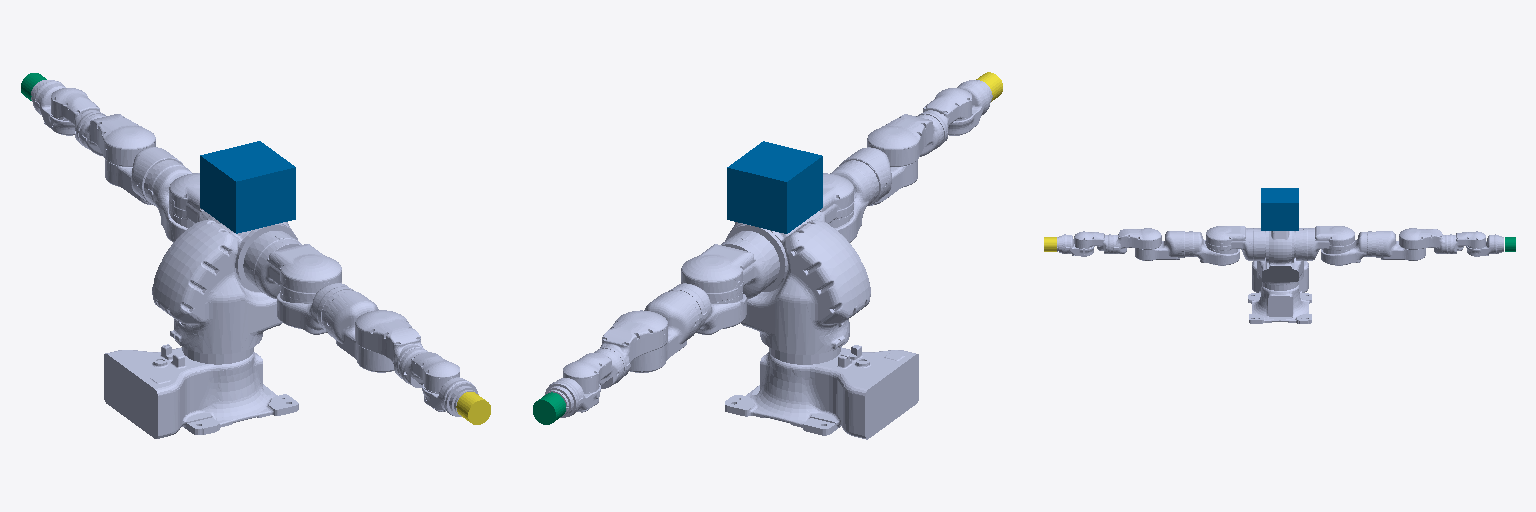
robot.urdf — sda20d_gripper_hole_kinect:
<?xml version="1.0" ?>
<!-- =================================================================================== -->
<!-- |    This document was autogenerated by xacro from sda20d_gripper_hole_kinect.xacro | -->
<!-- |    EDITING THIS FILE BY HAND IS NOT RECOMMENDED                                 | -->
<!-- =================================================================================== -->
<robot name="sda20d_gripper_hole_kinect" xmlns:xacro="http://ros.org/wiki/xacro">
  <!-- link list -->
  <link name="base_link">
    <inertial>
      <origin rpy="0 0 0" xyz="-0.11144 -4.9089E-05 0.10433"/>
      <mass value="28.727"/>
      <inertia ixx="0.3449" ixy="-0.00060471" ixz="-0.0072714" iyy="0.73969" iyz="5.6352E-05" izz="0.82224"/>
    </inertial>
    <visual>
      <origin rpy="0 0 0" xyz="0 0 0"/>
      <geometry>
        <mesh filename="package://motoman_sda20d_support/meshes/visual/base_link.STL"/>
      </geometry>
      <material name="">
        <color rgba="0.79216 0.81961 0.93333 1"/>
      </material>
    </visual>
    <collision>
      <origin rpy="0 0 0" xyz="0 0 0"/>
      <geometry>
        <mesh filename="package://motoman_sda20d_support/meshes/collision/base_link.STL"/>
      </geometry>
    </collision>
  </link>
  <link name="torso_link_b1">
    <inertial>
      <origin rpy="0 0 0" xyz="0.026706 1.1222E-05 0.19713"/>
      <mass value="36.439"/>
      <inertia ixx="0.62924" ixy="7.5604E-05" ixz="-0.065715" iyy="0.97273" iyz="7.3187E-05" izz="0.67513"/>
    </inertial>
    <visual>
      <origin rpy="0 0 0" xyz="0 0 0"/>
      <geometry>
        <mesh filename="package://motoman_sda20d_support/meshes/visual/link_b1.STL"/>
      </geometry>
      <material name="">
        <color rgba="0.79216 0.81961 0.93333 1"/>
      </material>
    </visual>
    <collision>
      <origin rpy="0 0 0" xyz="0 0 0"/>
      <geometry>
        <mesh filename="package://motoman_sda20d_support/meshes/collision/link_b1.STL"/>
      </geometry>
    </collision>
  </link>
  <!-- joint list -->
  <joint name="torso_joint_b1" type="revolute">
    <origin rpy="0 0 0" xyz="0 0 0.2516"/>
    <parent link="base_link"/>
    <child link="torso_link_b1"/>
    <axis xyz="0 0 1"/>
    <limit effort="0" lower="-1.5555423498153687" upper="1.5555423498153687" velocity="2.181816"/>
  </joint>
  <!-- end of joint list -->
  <!-- link list -->
  <link name="arm_left_link_1_s">
    <inertial>
      <origin rpy="0 0 0" xyz="5.2918E-06 0.021755 0.16826"/>
      <mass value="10.704"/>
      <inertia ixx="0.17312" ixy="-1.4296E-06" ixz="-8.891E-06" iyy="0.17545" iyz="-0.026584" izz="0.059382"/>
    </inertial>
    <visual>
      <origin rpy="0 0 0" xyz="0 0 0"/>
      <geometry>
        <mesh filename="package://motoman_sda20d_support/meshes/visual/link_1_s.STL"/>
      </geometry>
      <material name="">
        <color rgba="0.79216 0.81961 0.93333 1"/>
      </material>
    </visual>
    <collision>
      <origin rpy="0 0 0" xyz="0 0 0"/>
      <geometry>
        <mesh filename="package://motoman_sda20d_support/meshes/collision/link_1_s.STL"/>
      </geometry>
    </collision>
  </link>
  <link name="arm_left_link_2_l">
    <inertial>
      <origin rpy="0 0 0" xyz="0.069111 1.8074E-05 -0.039943"/>
      <mass value="8.031"/>
      <inertia ixx="0.03886" ixy="-1.2216E-05" ixz="-0.017517" iyy="0.094695" iyz="-5.0745E-06" izz="0.10194"/>
    </inertial>
    <visual>
      <origin rpy="0 0 0" xyz="0 0 0"/>
      <geometry>
        <mesh filename="package://motoman_sda20d_support/meshes/visual/link_2_l.STL"/>
      </geometry>
      <material name="">
        <color rgba="0.79216 0.81961 0.93333 1"/>
      </material>
    </visual>
    <collision>
      <origin rpy="0 0 0" xyz="0 0 0"/>
      <geometry>
        <mesh filename="package://motoman_sda20d_support/meshes/collision/link_2_l.STL"/>
      </geometry>
    </collision>
  </link>
  <link name="arm_left_link_3_e">
    <inertial>
      <origin rpy="0 0 0" xyz="2.3339E-06 -0.02415 0.13581"/>
      <mass value="6.0023"/>
      <inertia ixx="0.063894" ixy="-1.5274E-07" ixz="-3.0691E-08" iyy="0.062384" iyz="0.010637" izz="0.023266"/>
    </inertial>
    <visual>
      <origin rpy="0 0 0" xyz="0 0 0"/>
      <geometry>
        <mesh filename="package://motoman_sda20d_support/meshes/visual/link_3_e.STL"/>
      </geometry>
      <material name="">
        <color rgba="0.79216 0.81961 0.93333 1"/>
      </material>
    </visual>
    <collision>
      <origin rpy="0 0 0" xyz="0 0 0"/>
      <geometry>
        <mesh filename="package://motoman_sda20d_support/meshes/collision/link_3_e.STL"/>
      </geometry>
    </collision>
  </link>
  <link name="arm_left_link_4_u">
    <inertial>
      <origin rpy="0 0 0" xyz="0.076105 1.3438E-05 0.033833"/>
      <mass value="4.2991"/>
      <inertia ixx="0.01178" ixy="-1.1821E-05" ixz="0.0056112" iyy="0.042152" iyz="3.1996E-06" izz="0.043983"/>
    </inertial>
    <visual>
      <origin rpy="0 0 0" xyz="0 0 0"/>
      <geometry>
        <mesh filename="package://motoman_sda20d_support/meshes/visual/link_4_u.STL"/>
      </geometry>
      <material name="">
        <color rgba="0.79216 0.81961 0.93333 1"/>
      </material>
    </visual>
    <collision>
      <origin rpy="0 0 0" xyz="0 0 0"/>
      <geometry>
        <mesh filename="package://motoman_sda20d_support/meshes/collision/link_4_u.STL"/>
      </geometry>
    </collision>
  </link>
  <link name="arm_left_link_5_r">
    <inertial>
      <origin rpy="0 0 0" xyz="3.197E-06 0.024231 0.10713"/>
      <mass value="2.1798"/>
      <inertia ixx="0.012925" ixy="6.8017E-09" ixz="3.8025E-07" iyy="0.012754" iyz="-0.0021611" izz="0.0041053"/>
    </inertial>
    <visual>
      <origin rpy="0 0 0" xyz="0 0 0"/>
      <geometry>
        <mesh filename="package://motoman_sda20d_support/meshes/visual/link_5_r.STL"/>
      </geometry>
      <material name="">
        <color rgba="0.79216 0.81961 0.93333 1"/>
      </material>
    </visual>
    <collision>
      <origin rpy="0 0 0" xyz="0 0 0"/>
      <geometry>
        <mesh filename="package://motoman_sda20d_support/meshes/collision/link_5_r.STL"/>
      </geometry>
    </collision>
  </link>
  <link name="arm_left_link_6_b">
    <inertial>
      <origin rpy="0 0 0" xyz="0.063005 5.2352E-05 -0.0172"/>
      <mass value="2.2078"/>
      <inertia ixx="0.0045051" ixy="9.1066E-07" ixz="-0.0019934" iyy="0.010714" iyz="-6.1671E-07" izz="0.010934"/>
    </inertial>
    <visual>
      <origin rpy="0 0 0" xyz="0 0 0"/>
      <geometry>
        <mesh filename="package://motoman_sda20d_support/meshes/visual/link_6_b.STL"/>
      </geometry>
      <material name="">
        <color rgba="0.79216 0.81961 0.93333 1"/>
      </material>
    </visual>
    <collision>
      <origin rpy="0 0 0" xyz="0 0 0"/>
      <geometry>
        <mesh filename="package://motoman_sda20d_support/meshes/collision/link_6_b.STL"/>
      </geometry>
    </collision>
  </link>
  <link name="arm_left_link_7_t">
    <inertial>
      <origin rpy="0 0 0" xyz="-2.1465E-05 5.2992E-08 0.0078271"/>
      <mass value="0.10719"/>
      <inertia ixx="6.5327E-05" ixy="6.1499E-07" ixz="1.834E-08" iyy="6.5152E-05" iyz="-1.7925E-11" izz="0.0001262"/>
    </inertial>
    <visual>
      <origin rpy="0 0 0" xyz="0 0 0"/>
      <geometry>
        <mesh filename="package://motoman_sda20d_support/meshes/visual/link_7_t.STL"/>
      </geometry>
      <material name="">
        <color rgba="0.79216 0.81961 0.93333 1"/>
      </material>
    </visual>
    <collision>
      <origin rpy="0 0 0" xyz="0 0 0"/>
      <geometry>
        <mesh filename="package://motoman_sda20d_support/meshes/collision/link_7_t.STL"/>
      </geometry>
    </collision>
  </link>
  <link name="arm_left_link_tool0"/>
  <!-- joint list -->
  <joint name="arm_left_joint_1_s" type="revolute">
    <origin rpy="1.5708 0.0 3.1416" xyz="0.15 0.075 0.2984"/>
    <parent link="torso_link_b1"/>
    <child link="arm_left_link_1_s"/>
    <axis xyz="0 0 1"/>
    <limit effort="0" lower="-3.13" upper="3.13" velocity="0.151267548"/>
    <!-- velocity="0.9076052904129028" -->
  </joint>
  <joint name="arm_left_joint_2_l" type="revolute">
    <origin rpy="-1.5708 -1.5708 0" xyz="0 0 0.31"/>
    <parent link="arm_left_link_1_s"/>
    <child link="arm_left_link_2_l"/>
    <axis xyz="0 0 -1"/>
    <limit effort="0" lower="-1.90" upper="1.90" velocity="0.132802963"/>
    <!-- velocity="0.7968177795410156" -->
  </joint>
  <joint name="arm_left_joint_3_e" type="revolute">
    <origin rpy="1.5708 -5.0715E-16 1.5708" xyz="0.245 0 0"/>
    <parent link="arm_left_link_2_l"/>
    <child link="arm_left_link_3_e"/>
    <axis xyz="0 0 1"/>
    <limit effort="0" lower="-2.95" upper="2.95" velocity="0.173283021"/>
    <!-- velocity="1.0396981239318848" -->
  </joint>
  <joint name="arm_left_joint_4_u" type="revolute">
    <origin rpy="-1.5708 -1.5708 0" xyz="0 0 0.245"/>
    <parent link="arm_left_link_3_e"/>
    <child link="arm_left_link_4_u"/>
    <axis xyz="0 0 1"/>
    <limit effort="0" lower="-2.25" upper="2.25" velocity="0.198139191"/>
    <!-- velocity="1.1888351440429688" -->
  </joint>
  <joint name="arm_left_joint_5_r" type="revolute">
    <origin rpy="1.5708 -1.464E-17 1.5708" xyz="0.241 0 0"/>
    <parent link="arm_left_link_4_u"/>
    <child link="arm_left_link_5_r"/>
    <axis xyz="0 0 -1"/>
    <limit effort="0" lower="-3.13" upper="3.13" velocity="0.261991759"/>
    <!-- velocity="1.5719505548477173" -->
  </joint>
  <joint name="arm_left_joint_6_b" type="revolute">
    <origin rpy="1.8852 -1.5708 2.8272" xyz="0 0 0.179"/>
    <parent link="arm_left_link_5_r"/>
    <child link="arm_left_link_6_b"/>
    <axis xyz="0 0 1"/>
    <limit effort="0" lower="-1.90" upper="1.90" velocity="0.29046913"/>
    <!-- velocity="1.7428147792816162" -->
  </joint>
  <joint name="arm_left_joint_7_t" type="revolute">
    <origin rpy="1.5708 -1.0214E-15 1.5708" xyz="0.1642 0 0"/>
    <parent link="arm_left_link_6_b"/>
    <child link="arm_left_link_7_t"/>
    <axis xyz="0 0 -1"/>
    <limit effort="0" lower="-3.12" upper="3.12" velocity="0.340884606"/>
    <!-- velocity="2.0453076362609863" -->
  </joint>
  <joint name="arm_left_joint_tool0" type="fixed">
    <origin rpy="0 0 0" xyz="0 0 0.016"/>
    <parent link="arm_left_link_7_t"/>
    <child link="arm_left_link_tool0"/>
  </joint>
  <!-- end of joint list -->
  <!-- link list -->
  <link name="arm_right_link_1_s">
    <inertial>
      <origin rpy="0 0 0" xyz="5.2918E-06 0.021755 0.16826"/>
      <mass value="10.704"/>
      <inertia ixx="0.17312" ixy="-1.4296E-06" ixz="-8.891E-06" iyy="0.17545" iyz="-0.026584" izz="0.059382"/>
    </inertial>
    <visual>
      <origin rpy="0 0 0" xyz="0 0 0"/>
      <geometry>
        <mesh filename="package://motoman_sda20d_support/meshes/visual/link_1_s.STL"/>
      </geometry>
      <material name="">
        <color rgba="0.79216 0.81961 0.93333 1"/>
      </material>
    </visual>
    <collision>
      <origin rpy="0 0 0" xyz="0 0 0"/>
      <geometry>
        <mesh filename="package://motoman_sda20d_support/meshes/collision/link_1_s.STL"/>
      </geometry>
    </collision>
  </link>
  <link name="arm_right_link_2_l">
    <inertial>
      <origin rpy="0 0 0" xyz="0.069111 1.8074E-05 -0.039943"/>
      <mass value="8.031"/>
      <inertia ixx="0.03886" ixy="-1.2216E-05" ixz="-0.017517" iyy="0.094695" iyz="-5.0745E-06" izz="0.10194"/>
    </inertial>
    <visual>
      <origin rpy="0 0 0" xyz="0 0 0"/>
      <geometry>
        <mesh filename="package://motoman_sda20d_support/meshes/visual/link_2_l.STL"/>
      </geometry>
      <material name="">
        <color rgba="0.79216 0.81961 0.93333 1"/>
      </material>
    </visual>
    <collision>
      <origin rpy="0 0 0" xyz="0 0 0"/>
      <geometry>
        <mesh filename="package://motoman_sda20d_support/meshes/collision/link_2_l.STL"/>
      </geometry>
    </collision>
  </link>
  <link name="arm_right_link_3_e">
    <inertial>
      <origin rpy="0 0 0" xyz="2.3339E-06 -0.02415 0.13581"/>
      <mass value="6.0023"/>
      <inertia ixx="0.063894" ixy="-1.5274E-07" ixz="-3.0691E-08" iyy="0.062384" iyz="0.010637" izz="0.023266"/>
    </inertial>
    <visual>
      <origin rpy="0 0 0" xyz="0 0 0"/>
      <geometry>
        <mesh filename="package://motoman_sda20d_support/meshes/visual/link_3_e.STL"/>
      </geometry>
      <material name="">
        <color rgba="0.79216 0.81961 0.93333 1"/>
      </material>
    </visual>
    <collision>
      <origin rpy="0 0 0" xyz="0 0 0"/>
      <geometry>
        <mesh filename="package://motoman_sda20d_support/meshes/collision/link_3_e.STL"/>
      </geometry>
    </collision>
  </link>
  <link name="arm_right_link_4_u">
    <inertial>
      <origin rpy="0 0 0" xyz="0.076105 1.3438E-05 0.033833"/>
      <mass value="4.2991"/>
      <inertia ixx="0.01178" ixy="-1.1821E-05" ixz="0.0056112" iyy="0.042152" iyz="3.1996E-06" izz="0.043983"/>
    </inertial>
    <visual>
      <origin rpy="0 0 0" xyz="0 0 0"/>
      <geometry>
        <mesh filename="package://motoman_sda20d_support/meshes/visual/link_4_u.STL"/>
      </geometry>
      <material name="">
        <color rgba="0.79216 0.81961 0.93333 1"/>
      </material>
    </visual>
    <collision>
      <origin rpy="0 0 0" xyz="0 0 0"/>
      <geometry>
        <mesh filename="package://motoman_sda20d_support/meshes/collision/link_4_u.STL"/>
      </geometry>
    </collision>
  </link>
  <link name="arm_right_link_5_r">
    <inertial>
      <origin rpy="0 0 0" xyz="3.197E-06 0.024231 0.10713"/>
      <mass value="2.1798"/>
      <inertia ixx="0.012925" ixy="6.8017E-09" ixz="3.8025E-07" iyy="0.012754" iyz="-0.0021611" izz="0.0041053"/>
    </inertial>
    <visual>
      <origin rpy="0 0 0" xyz="0 0 0"/>
      <geometry>
        <mesh filename="package://motoman_sda20d_support/meshes/visual/link_5_r.STL"/>
      </geometry>
      <material name="">
        <color rgba="0.79216 0.81961 0.93333 1"/>
      </material>
    </visual>
    <collision>
      <origin rpy="0 0 0" xyz="0 0 0"/>
      <geometry>
        <mesh filename="package://motoman_sda20d_support/meshes/collision/link_5_r.STL"/>
      </geometry>
    </collision>
  </link>
  <link name="arm_right_link_6_b">
    <inertial>
      <origin rpy="0 0 0" xyz="0.063005 5.2352E-05 -0.0172"/>
      <mass value="2.2078"/>
      <inertia ixx="0.0045051" ixy="9.1066E-07" ixz="-0.0019934" iyy="0.010714" iyz="-6.1671E-07" izz="0.010934"/>
    </inertial>
    <visual>
      <origin rpy="0 0 0" xyz="0 0 0"/>
      <geometry>
        <mesh filename="package://motoman_sda20d_support/meshes/visual/link_6_b.STL"/>
      </geometry>
      <material name="">
        <color rgba="0.79216 0.81961 0.93333 1"/>
      </material>
    </visual>
    <collision>
      <origin rpy="0 0 0" xyz="0 0 0"/>
      <geometry>
        <mesh filename="package://motoman_sda20d_support/meshes/collision/link_6_b.STL"/>
      </geometry>
    </collision>
  </link>
  <link name="arm_right_link_7_t">
    <inertial>
      <origin rpy="0 0 0" xyz="-2.1465E-05 5.2992E-08 0.0078271"/>
      <mass value="0.10719"/>
      <inertia ixx="6.5327E-05" ixy="6.1499E-07" ixz="1.834E-08" iyy="6.5152E-05" iyz="-1.7925E-11" izz="0.0001262"/>
    </inertial>
    <visual>
      <origin rpy="0 0 0" xyz="0 0 0"/>
      <geometry>
        <mesh filename="package://motoman_sda20d_support/meshes/visual/link_7_t.STL"/>
      </geometry>
      <material name="">
        <color rgba="0.79216 0.81961 0.93333 1"/>
      </material>
    </visual>
    <collision>
      <origin rpy="0 0 0" xyz="0 0 0"/>
      <geometry>
        <mesh filename="package://motoman_sda20d_support/meshes/collision/link_7_t.STL"/>
      </geometry>
    </collision>
  </link>
  <link name="arm_right_link_tool0"/>
  <!-- joint list -->
  <joint name="arm_right_joint_1_s" type="revolute">
    <origin rpy="-1.5708 -3.1416 3.1416" xyz="0.15 -0.075 0.2984"/>
    <parent link="torso_link_b1"/>
    <child link="arm_right_link_1_s"/>
    <axis xyz="0 0 -1"/>
    <limit effort="0" lower="-3.13" upper="3.13" velocity="0.151267548"/>
    <!-- velocity="0.9076052904129028" -->
  </joint>
  <joint name="arm_right_joint_2_l" type="revolute">
    <origin rpy="-1.5708 -1.5708 0" xyz="0 0 0.31"/>
    <parent link="arm_right_link_1_s"/>
    <child link="arm_right_link_2_l"/>
    <axis xyz="0 0 1"/>
    <limit effort="0" lower="-1.90" upper="1.90" velocity="0.132802963"/>
    <!-- velocity="0.7968177795410156" -->
  </joint>
  <joint name="arm_right_joint_3_e" type="revolute">
    <origin rpy="1.5708 -5.0715E-16 1.5708" xyz="0.245 0 0"/>
    <parent link="arm_right_link_2_l"/>
    <child link="arm_right_link_3_e"/>
    <axis xyz="0 0 -1"/>
    <limit effort="0" lower="-2.95" upper="2.95" velocity="0.173283021"/>
    <!-- velocity="1.0396981239318848" -->
  </joint>
  <joint name="arm_right_joint_4_u" type="revolute">
    <origin rpy="-1.5708 -1.5708 0" xyz="0 0 0.245"/>
    <parent link="arm_right_link_3_e"/>
    <child link="arm_right_link_4_u"/>
    <axis xyz="0 0 -1"/>
    <limit effort="0" lower="-2.25" upper="2.25" velocity="0.198139191"/>
    <!-- velocity="1.1888351440429688" -->
  </joint>
  <joint name="arm_right_joint_5_r" type="revolute">
    <origin rpy="1.5708 -1.464E-17 1.5708" xyz="0.241 0 0"/>
    <parent link="arm_right_link_4_u"/>
    <child link="arm_right_link_5_r"/>
    <axis xyz="0 0 1"/>
    <limit effort="0" lower="-3.13" upper="3.13" velocity="0.261991759"/>
    <!-- velocity="1.5719505548477173" -->
  </joint>
  <joint name="arm_right_joint_6_b" type="revolute">
    <origin rpy="1.8852 -1.5708 2.8272" xyz="0 0 0.179"/>
    <parent link="arm_right_link_5_r"/>
    <child link="arm_right_link_6_b"/>
    <axis xyz="0 0 -1"/>
    <limit effort="0" lower="-1.90" upper="1.90" velocity="0.29046913"/>
    <!-- velocity="1.7428147792816162" -->
  </joint>
  <joint name="arm_right_joint_7_t" type="revolute">
    <origin rpy="1.5708 -1.0214E-15 1.5708" xyz="0.1642 0 0"/>
    <parent link="arm_right_link_6_b"/>
    <child link="arm_right_link_7_t"/>
    <axis xyz="0 0 1"/>
    <limit effort="0" lower="-3.12" upper="3.12" velocity="0.340884606"/>
    <!-- velocity="2.0453076362609863" -->
  </joint>
  <joint name="arm_right_joint_tool0" type="fixed">
    <origin rpy="0 0 0" xyz="0 0 0.016"/>
    <parent link="arm_right_link_7_t"/>
    <child link="arm_right_link_tool0"/>
  </joint>


  <material name="plate">
    <color rgba="0.8 0.8 1"/>
  </material>
  <link name="peg_link">
    <visual>
      <geometry>
        <cylinder length="0.072" radius="0.047"/>
      </geometry>
      <material name="plate"/>
    </visual>
  </link>
<joint name="peg_joint" type="fixed">
<origin xyz="0 0 0.04" rpy="3.1416 0 0"/>
<parent link="arm_left_link_tool0"/>
<child link="peg_link"/>
</joint>


  <link name="hole_link">
    <visual>
      <geometry>
        <cylinder length="0.082" radius="0.047"/>
      </geometry>
      <material name="plate"/>
    </visual>
  </link>
  <joint name="hole_joint" type="fixed">
    <origin rpy="3.1416 0 0" xyz="0 0 0.04"/>
    <parent link="arm_right_link_tool0"/>
    <child link="hole_link"/>
  </joint>
  <material name="black">
    <color rgba="0 0 0"/>
  </material>
  <link name="kinect2_link">
    <visual>
      <geometry>
        <box size="0.24 0.25 0.2"/>
      </geometry>
      <material name="black"/>
    </visual>
  </link>
  <joint name="kinect2_joint" type="fixed">
    <origin rpy="0 0 0" xyz="0.12 0 0.54"/>
    <parent link="torso_link_b1"/>
    <child link="kinect2_link"/>
  </joint>
  <link name="kinect2_rgb_optical_frame">
  </link>
  <joint name="kinect2_rgb_optical_frame_joint" type="fixed">
    <origin rpy="0 0 0" xyz="0.12 0 0.54"/>
    <parent link="torso_link_b1"/>
    <child link="kinect2_rgb_optical_frame"/>
  </joint>
  <link name="kinect2_ir_optical_frame">
  </link>
  <joint name="kinect2_ir_optical_frame_joint" type="fixed">
    <origin rpy="0 0 0" xyz="0.12 0 0.54"/>
    <parent link="torso_link_b1"/>
    <child link="kinect2_ir_optical_frame"/>
  </joint>
</robot>
<!-- [local-path]/cidesi_ws/src/motoman/motoman_sda20d_with_gripper_hole_kinect_support/urdf/model.urdf -->

--- Render facts (derived) ---
3 views of the same robot in one strip: view 1: azimuth 30°, elevation 25°; view 2: azimuth 150°, elevation 25°; view 3: azimuth 270°, elevation 25° (orthographic).
Model sda20d_gripper_hole_kinect with 23 links and 22 joints (15 revolute, 7 fixed), rooted at base_link, posed every joint at zero.
Visible links, largest first — view 1: base_link, torso_link_b1, kinect2_link, arm_right_link_1_s, arm_left_link_4_u, arm_right_link_4_u, arm_right_link_3_e, arm_right_link_2_l, arm_left_link_2_l, arm_right_link_5_r, arm_left_link_3_e, arm_left_link_1_s (+4 smaller); view 2: base_link, torso_link_b1, kinect2_link, arm_left_link_1_s, arm_right_link_4_u, arm_left_link_4_u, arm_left_link_3_e, arm_left_link_2_l, arm_right_link_2_l, arm_left_link_5_r, arm_right_link_3_e, arm_right_link_1_s (+4 smaller); view 3: base_link, torso_link_b1, arm_right_link_1_s, arm_left_link_1_s, kinect2_link, arm_left_link_2_l, arm_left_link_4_u, arm_right_link_2_l, arm_right_link_4_u, arm_right_link_3_e, arm_left_link_3_e, arm_right_link_5_r (+1 smaller).
Link boxes in pixels (x1,y1,x2,y2): base_link: (104, 344, 298, 438); torso_link_b1: (152, 219, 293, 354); kinect2_link: (200, 141, 295, 233); arm_right_link_1_s: (235, 224, 341, 301); arm_left_link_4_u: (79, 114, 155, 166); arm_right_link_4_u: (355, 310, 423, 378); arm_right_link_3_e: (324, 291, 393, 372); arm_right_link_2_l: (277, 283, 353, 334); arm_left_link_2_l: (144, 160, 193, 242); arm_right_link_5_r: (400, 349, 459, 392); arm_left_link_3_e: (105, 147, 182, 205); arm_left_link_1_s: (169, 173, 220, 223); base_link: (725, 345, 918, 439); torso_link_b1: (730, 220, 870, 354); kinect2_link: (727, 141, 822, 233); arm_left_link_1_s: (681, 224, 787, 302); arm_right_link_4_u: (867, 114, 943, 166); arm_left_link_4_u: (598, 310, 667, 378); arm_left_link_3_e: (629, 291, 698, 372); arm_left_link_2_l: (668, 283, 746, 334); arm_right_link_2_l: (829, 160, 878, 242); arm_left_link_5_r: (563, 349, 622, 392); arm_right_link_3_e: (839, 147, 917, 205); arm_right_link_1_s: (802, 173, 853, 223); base_link: (1248, 261, 1311, 323); torso_link_b1: (1257, 231, 1303, 285); arm_right_link_1_s: (1205, 226, 1268, 262); arm_left_link_1_s: (1292, 226, 1354, 262); kinect2_link: (1261, 188, 1298, 230); arm_left_link_2_l: (1321, 231, 1375, 265); arm_left_link_4_u: (1399, 228, 1449, 253); arm_right_link_2_l: (1185, 231, 1239, 265); arm_right_link_4_u: (1111, 228, 1161, 253); arm_right_link_3_e: (1135, 231, 1184, 260); arm_left_link_3_e: (1376, 231, 1425, 260); arm_right_link_5_r: (1074, 231, 1110, 253).
Bounding box of the posed robot: 0.6384 × 3.11 × 0.8916 m (x, y, z).
16 mesh visuals loaded from 9 distinct referenced files (9 binary STL).